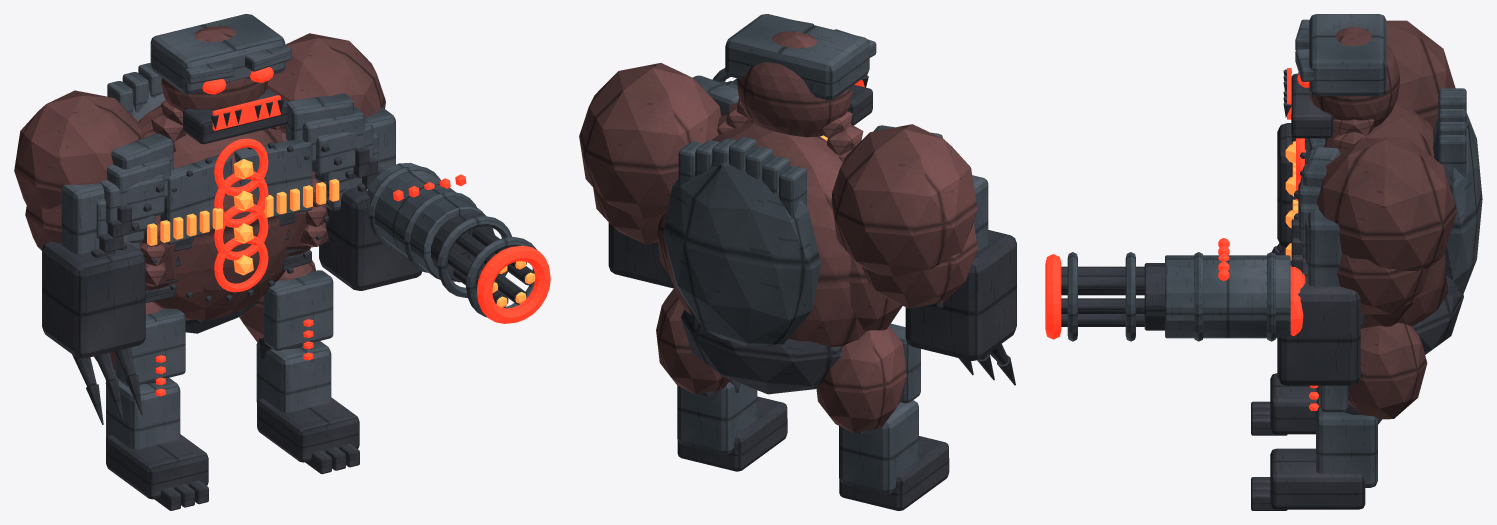
The model's file is Siege_Titan_HD.glb.
3 views of the same model, side by side, from view 1: azimuth 30°, elevation 25°; view 2: azimuth 150°, elevation 25°; view 3: azimuth 270°, elevation 25° (orthographic). The views are drawn at different scales.
Parts seen in each view (by area): view 1: BATCH_TORSO__PBR__Mutant_Organic, BATCH_TORSO__PBR__Graphite_Armour, BATCH_ARM_L__PBR__Oil_Steel, BATCH_CANNON_R__PBR__Graphite_Armour, BATCH_LEG_R__PBR__Graphite_Armour, BATCH_LEG_L__PBR__Graphite_Armour, BATCH_HEAD__PBR__Graphite_Armour, Forearm_Gauntlet.001, BATCH_TORSO__PBR__Emissive_Scanners, Foot_Bracer.001, Foot_Bracer, BATCH_TORSO__PBR__Emissive_Forge (+16 smaller); view 2: BATCH_TORSO__PBR__Mutant_Organic, BATCH_TORSO__PBR__Graphite_Armour, BATCH_ARM_L__PBR__Oil_Steel, BATCH_HEAD__PBR__Mutant_Organic, BATCH_HEAD__PBR__Graphite_Armour, Thigh_Bundle, Abdomen_Carbon, BATCH_LEG_L__PBR__Graphite_Armour, BATCH_LEG_R__PBR__Graphite_Armour, Triceps_Organic, Thigh_Bundle.001, Foot_Bracer.001 (+6 smaller); view 3: BATCH_TORSO__PBR__Mutant_Organic, BATCH_CANNON_R__PBR__Graphite_Armour, BATCH_TORSO__PBR__Graphite_Armour, Forearm_Gauntlet.001, BATCH_HEAD__PBR__Graphite_Armour, Thigh_Bundle.001, BATCH_LEG_R__PBR__Graphite_Armour, Foot_Bracer.001, BATCH_HEAD__PBR__Mutant_Organic, BATCH_CANNON_R__PBR__Machined_Titanium, Triceps_Organic.001, Foot_Bracer (+11 smaller).
Boxes of the visible parts, left/top/right/bottom form: BATCH_TORSO__PBR__Mutant_Organic: left=14, top=33, right=385, bottom=320; BATCH_TORSO__PBR__Graphite_Armour: left=96, top=63, right=378, bottom=244; BATCH_ARM_L__PBR__Oil_Steel: left=42, top=241, right=145, bottom=386; BATCH_CANNON_R__PBR__Graphite_Armour: left=366, top=162, right=536, bottom=317; BATCH_LEG_R__PBR__Graphite_Armour: left=256, top=270, right=333, bottom=412; BATCH_LEG_L__PBR__Graphite_Armour: left=106, top=308, right=185, bottom=449; BATCH_HEAD__PBR__Graphite_Armour: left=150, top=14, right=291, bottom=94; Forearm_Gauntlet.001: left=319, top=187, right=422, bottom=290; BATCH_TORSO__PBR__Emissive_Scanners: left=214, top=138, right=268, bottom=292; Foot_Bracer.001: left=257, top=397, right=359, bottom=462; Foot_Bracer: left=106, top=434, right=208, bottom=499; BATCH_TORSO__PBR__Emissive_Forge: left=147, top=159, right=339, bottom=275; BATCH_TORSO__PBR__Mutant_Organic: left=579, top=63, right=977, bottom=346; BATCH_TORSO__PBR__Graphite_Armour: left=663, top=75, right=942, bottom=346; BATCH_ARM_L__PBR__Oil_Steel: left=905, top=230, right=1016, bottom=364; BATCH_HEAD__PBR__Mutant_Organic: left=717, top=31, right=863, bottom=161; BATCH_HEAD__PBR__Graphite_Armour: left=725, top=14, right=876, bottom=100; Thigh_Bundle: left=816, top=326, right=906, bottom=433; Abdomen_Carbon: left=680, top=309, right=842, bottom=394; BATCH_LEG_L__PBR__Graphite_Armour: left=839, top=323, right=920, bottom=494; BATCH_LEG_R__PBR__Graphite_Armour: left=677, top=382, right=757, bottom=454; Triceps_Organic: left=862, top=222, right=977, bottom=308; Thigh_Bundle.001: left=656, top=288, right=730, bottom=394; Foot_Bracer.001: left=677, top=396, right=787, bottom=471; BATCH_TORSO__PBR__Mutant_Organic: left=1303, top=20, right=1457, bottom=328; BATCH_CANNON_R__PBR__Graphite_Armour: left=1067, top=252, right=1290, bottom=341; BATCH_TORSO__PBR__Graphite_Armour: left=1298, top=72, right=1482, bottom=296; Forearm_Gauntlet.001: left=1277, top=261, right=1360, bottom=385; BATCH_HEAD__PBR__Graphite_Armour: left=1295, top=14, right=1386, bottom=96; Thigh_Bundle.001: left=1348, top=323, right=1427, bottom=419; BATCH_LEG_R__PBR__Graphite_Armour: left=1316, top=385, right=1377, bottom=487; Foot_Bracer.001: left=1270, top=448, right=1365, bottom=509; BATCH_HEAD__PBR__Mutant_Organic: left=1308, top=27, right=1400, bottom=154; BATCH_CANNON_R__PBR__Machined_Titanium: left=1061, top=266, right=1144, bottom=326; Triceps_Organic.001: left=1337, top=253, right=1429, bottom=314; Foot_Bracer: left=1270, top=373, right=1318, bottom=434.
Bounding box in the file's own units: 4.45 × 4.92 × 4.51.
6 materials, 4 textured.
